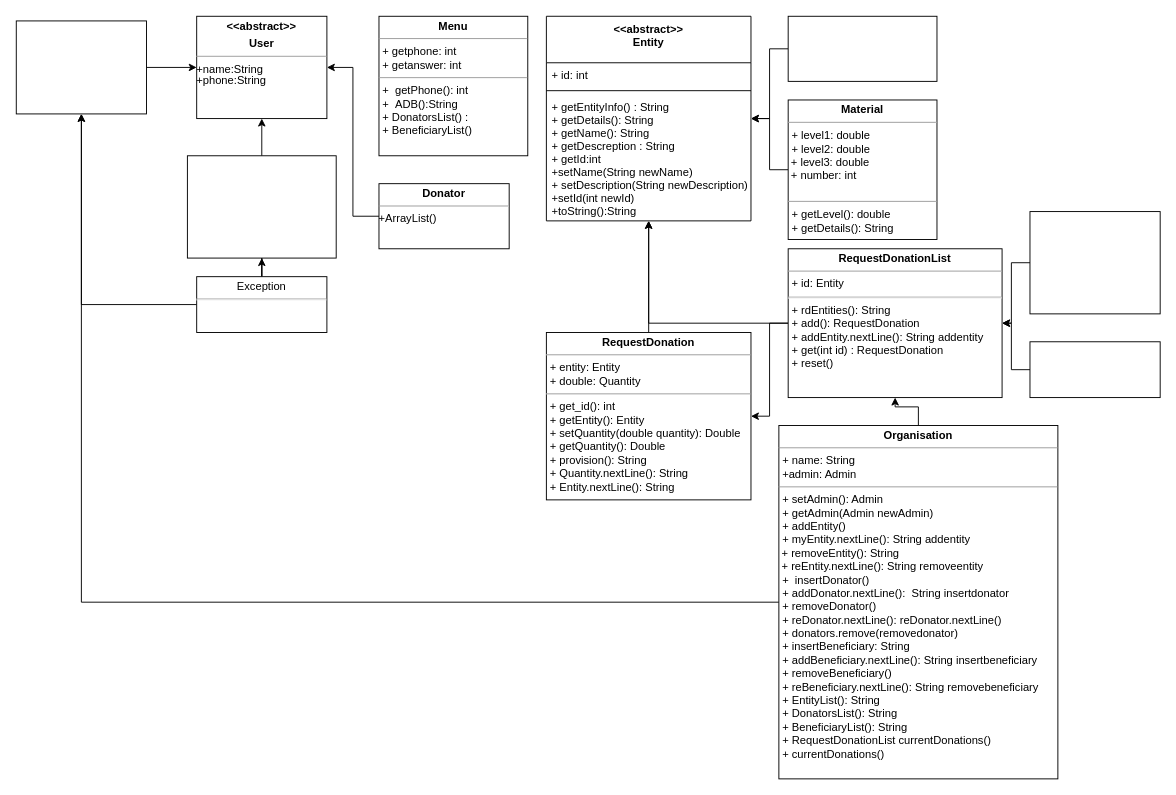
Some shapes in this 1176 by 795 pixel diagram are drawn without their labels. Here are the shapes that lost their labels. From the top down, the centre of each, then its label:
At pixel 80 67: "Admin +isAdmin:boolean".
At pixel 862 48: "Service +getDetails(): String".
At pixel 261 206: "Beneficiary + nopersons:int + noPersons:String + MyObj.nextInt()".
At pixel 1094 262: "Requests add() modify() validRequestDonation commit()".
At pixel 1094 369: "Offers commit()".
